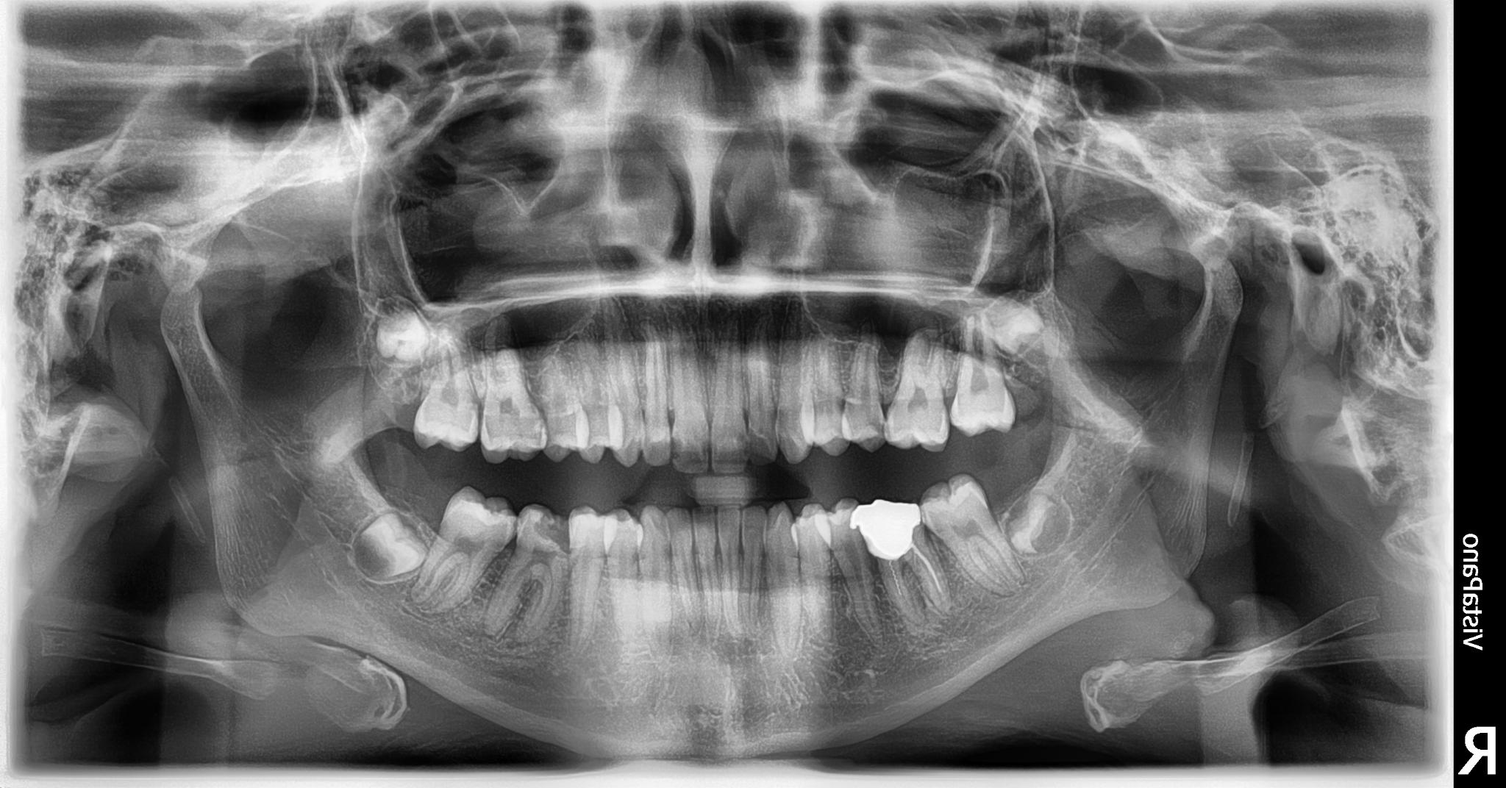Premolars: (548, 259, 1506, 748), (508, 242, 1464, 711), (443, 201, 1326, 526), (544, 173, 1506, 468), (278, 250, 803, 749), (264, 250, 726, 730), (209, 247, 574, 756), (230, 187, 651, 496)
